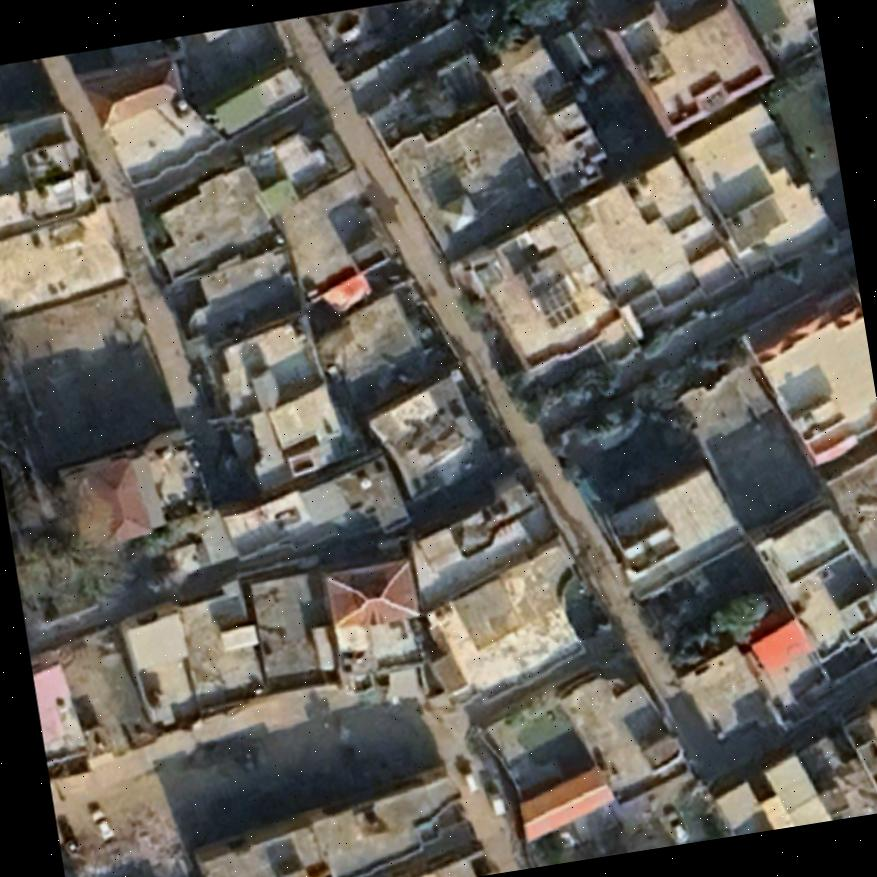Solarpanel: (529, 274, 583, 333)
